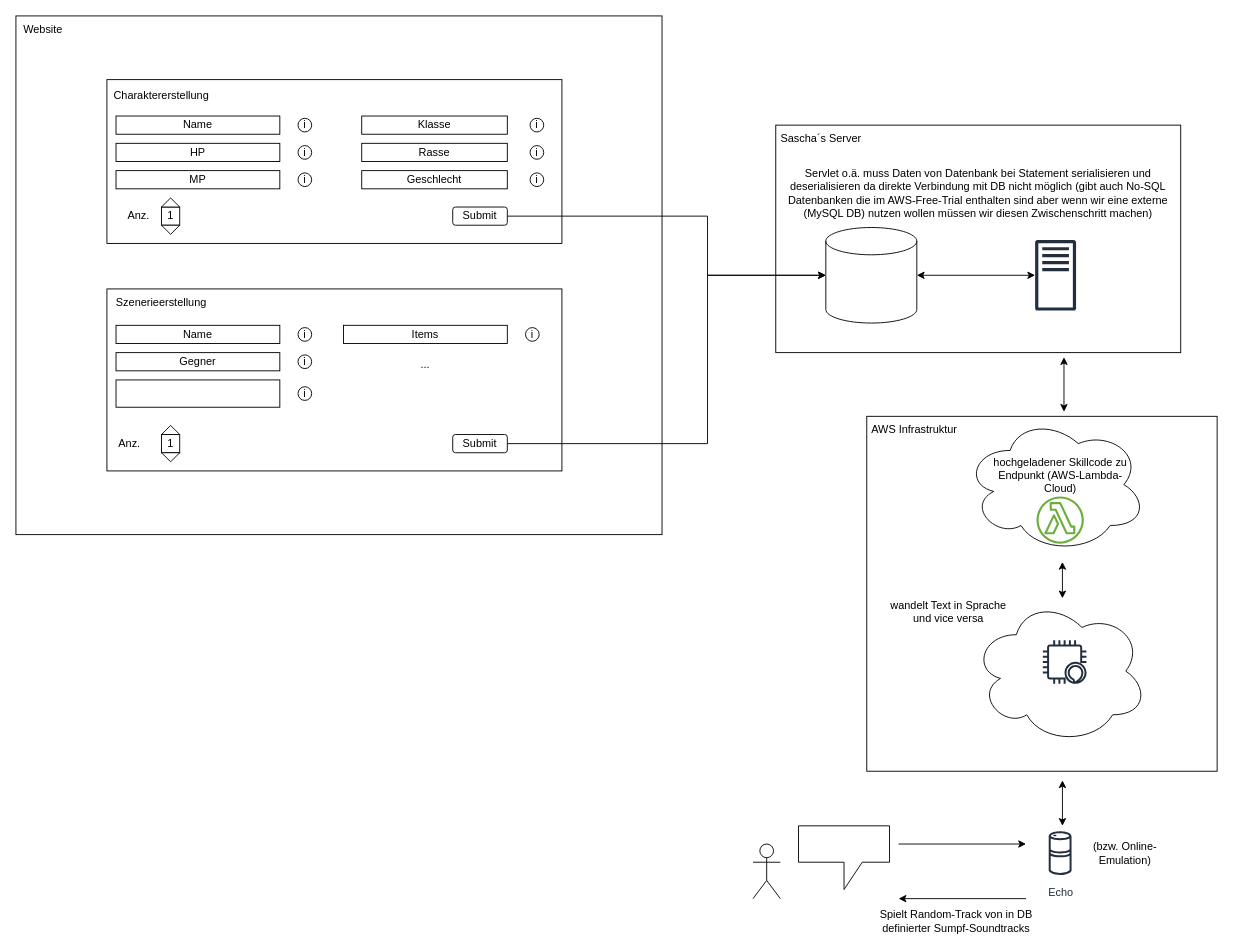
Some shapes in this 1233 by 951 pixel diagram are drawn without their labels. The shapes that lost their labels are listed below. From the top down, each one's box as (x1, y1, x2, y2) in pixels, then its label:
(825, 227, 917, 323): Datenbank
(115, 379, 280, 407): Soundtracks (Liste mit youtube links? -> csv)
(1036, 634, 1092, 689): Alexa KI
(752, 843, 780, 899): Game Master
(798, 825, 890, 890): Wechsle in Sumpf-Gebiet
